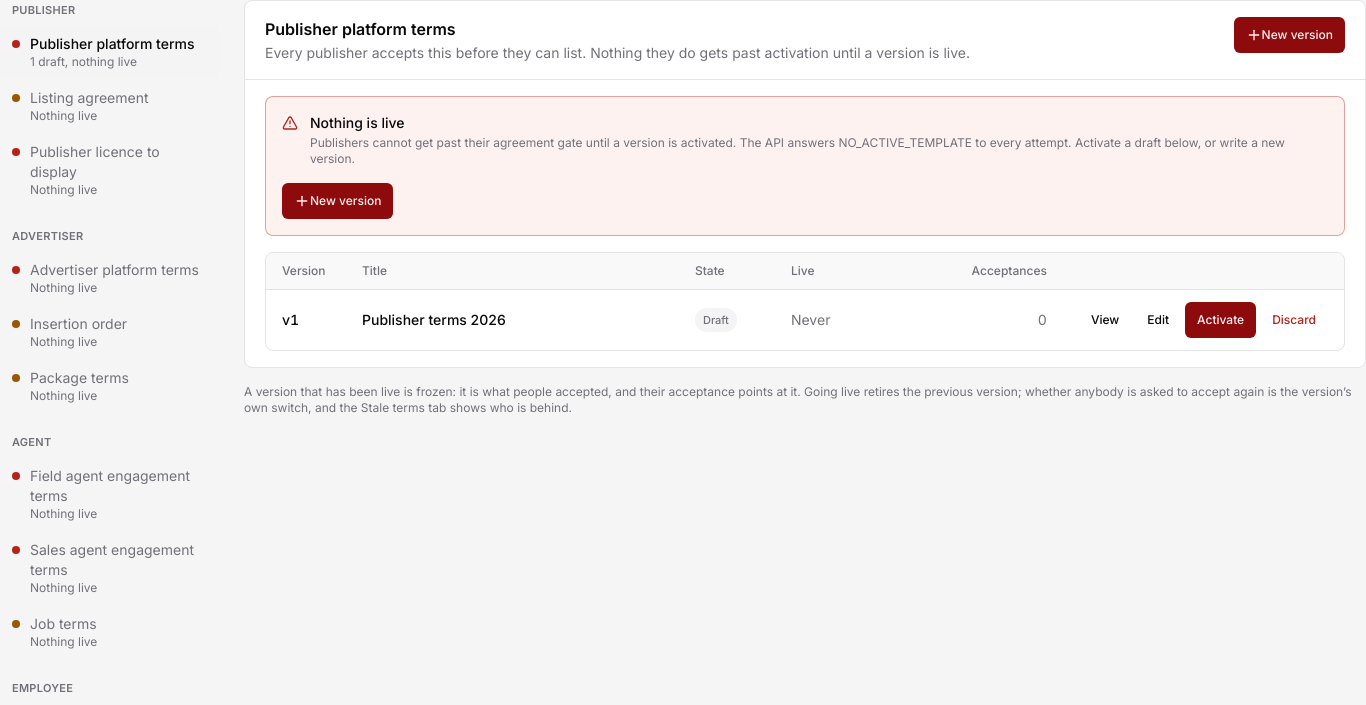
it: going live, and the versions after it › activates a draft after a confirmation, and the stall clears
Click the button "Activate". click: (1221, 320)
box: [1185,302,1256,338]
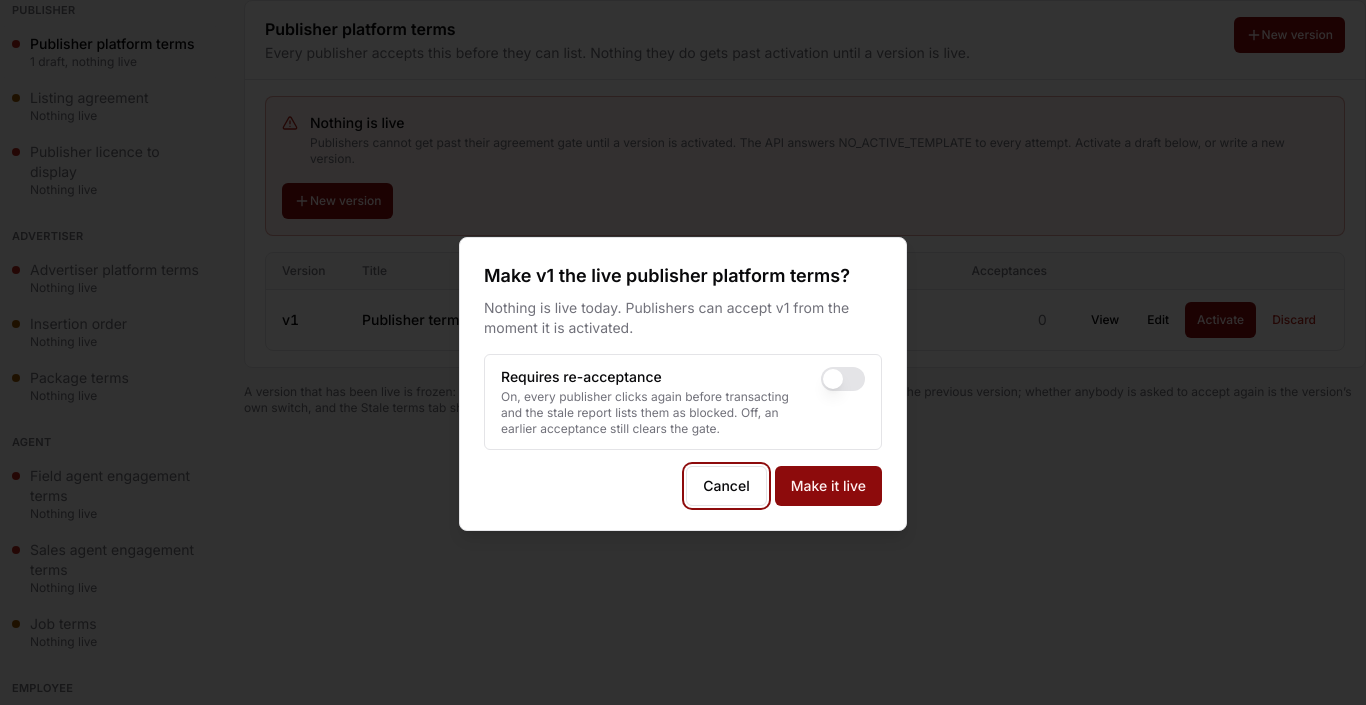
Expected: the dialog shows "Make v1 the live publisher platform terms?", [484,265,850,286]
Expected: the dialog shows "Nothing is live today.", [484,299,849,336]
Click the button "Make it live". click: (828, 486)
box: [775,466,882,506]
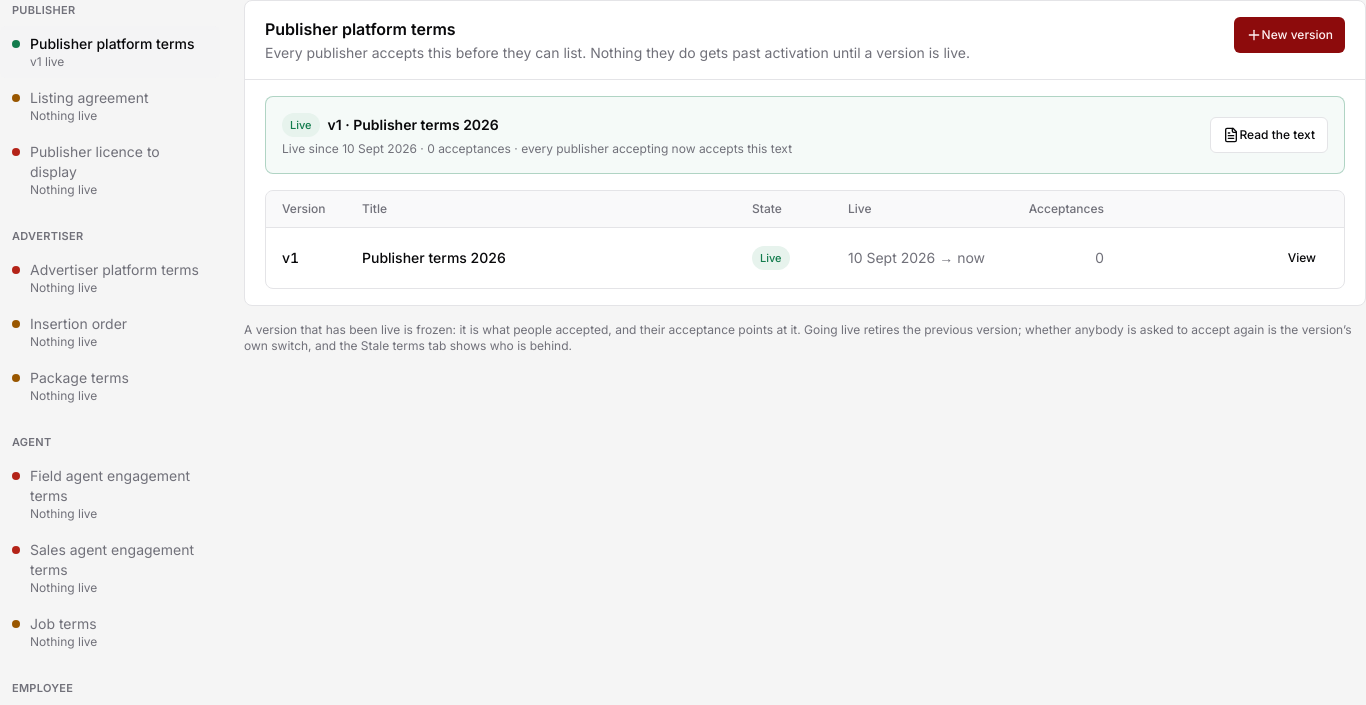
Expected: the text "Live" in the row of "→ now" is shown, [760,251,782,265]
Expected: the text "Nothing is live" is gone
Expected: the text "every publisher accepting now accepts this text" is shown, [282,141,792,157]
